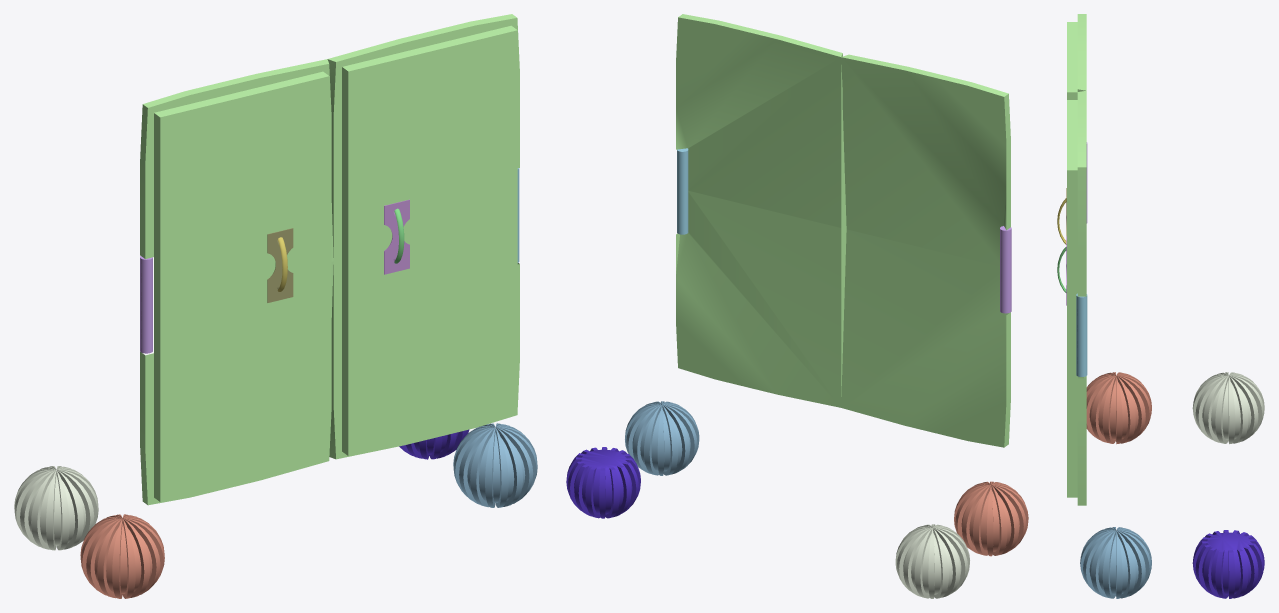
3 renders of one model, left to right at view 1: azimuth 30°, elevation 25°; view 2: azimuth 150°, elevation 25°; view 3: azimuth 270°, elevation 25°, orthographic. The views are drawn at different scales.
Parts seen in each view (by area): view 1: split_parent_11, Leg005_Handle_0, Leg001_Handle_0, Leg004_Handle_0, HandleBrace001_HandleBrace_0, HandleBrace002_HandleBrace_0, Cylinder001_Hinge_0, Leg006_Handle_0; view 2: split_parent_11, Leg004_Handle_0, Leg001_Handle_0, Leg005_Handle_0, Leg006_Handle_0, Cylinder001_Hinge_0, Cylinder002_Hinge_0; view 3: split_parent_11, Leg004_Handle_0, Leg005_Handle_0, Leg006_Handle_0, Leg001_Handle_0, Cylinder002_Hinge_0.
Part boxes in pixels (box(x1,y1,x2,y2)): split_parent_11: box(140, 14, 519, 505); Leg005_Handle_0: box(453, 423, 537, 507); Leg001_Handle_0: box(80, 514, 164, 598); Leg004_Handle_0: box(14, 466, 98, 550); HandleBrace001_HandleBrace_0: box(267, 228, 293, 302); HandleBrace002_HandleBrace_0: box(384, 199, 409, 274); Cylinder001_Hinge_0: box(140, 256, 152, 353); Leg006_Handle_0: box(399, 429, 469, 459); split_parent_11: box(676, 14, 1010, 447); Leg004_Handle_0: box(895, 524, 969, 598); Leg001_Handle_0: box(954, 481, 1028, 556); Leg005_Handle_0: box(625, 401, 699, 475); Leg006_Handle_0: box(566, 447, 640, 518); Cylinder001_Hinge_0: box(1000, 226, 1011, 313); Cylinder002_Hinge_0: box(677, 148, 688, 234); split_parent_11: box(1067, 14, 1086, 505); Leg004_Handle_0: box(1192, 372, 1264, 444); Leg005_Handle_0: box(1080, 527, 1151, 598); Leg006_Handle_0: box(1192, 530, 1264, 598); Leg001_Handle_0: box(1086, 372, 1151, 444); Cylinder002_Hinge_0: box(1076, 293, 1087, 376).
Size of the model in its own units: 0.9236 by 1 by 0.4374.
